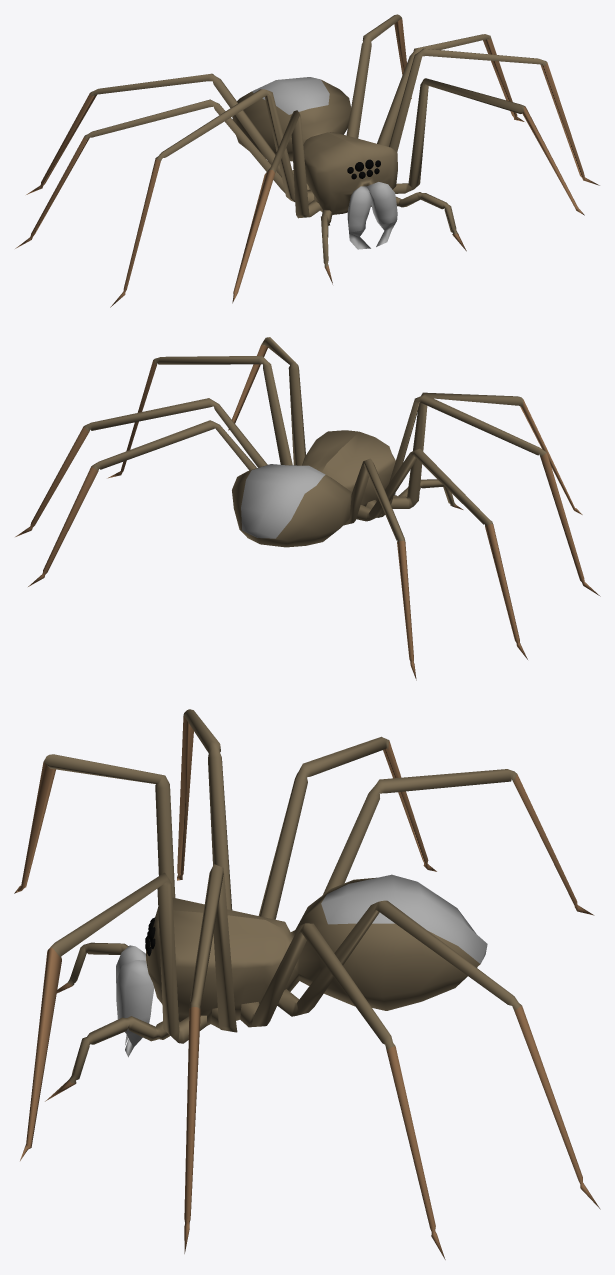
The model's file is Spider_Good.fbx.
3 renders of one model, top to bottom at view 1: azimuth 30°, elevation 25°; view 2: azimuth 150°, elevation 25°; view 3: azimuth 270°, elevation 25°, orthographic. The views are drawn at different scales.
Visible parts, largest first — view 1: polySurface43; view 2: polySurface43; view 3: polySurface43.
Boxes of the visible parts, <box> form: polySurface43: <box>15,14,599,307</box>; polySurface43: <box>15,337,600,680</box>; polySurface43: <box>14,709,600,1259</box>.
Bounding box in the file's own units: 71.34 × 22.64 × 45.52.
